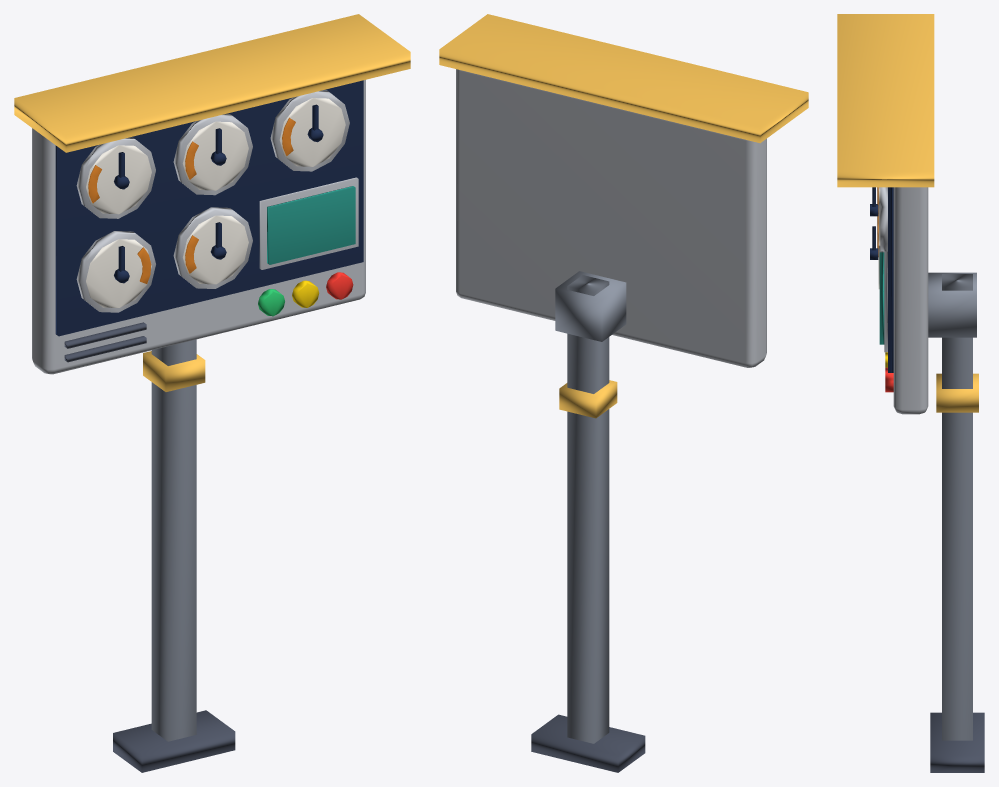
File: Fx_SeatMonitor_CommsPower.glb
3 views of the same model, side by side, from view 1: azimuth 30°, elevation 25°; view 2: azimuth 150°, elevation 25°; view 3: azimuth 270°, elevation 25° (orthographic). The views are drawn at different scales.
Parts seen in each view (by area): view 1: Fx_SeatMonitor_CommsPower.Frame, Fx_SeatMonitor_CommsPower.Hood, Fx_SeatMonitor_CommsPower.Dials, Fx_SeatMonitor_CommsPower.Stand, Fx_SeatMonitor_CommsPower.MonScreen; view 2: Fx_SeatMonitor_CommsPower.Frame, Fx_SeatMonitor_CommsPower.Stand, Fx_SeatMonitor_CommsPower.Hood; view 3: Fx_SeatMonitor_CommsPower.Stand, Fx_SeatMonitor_CommsPower.Hood, Fx_SeatMonitor_CommsPower.Frame, Fx_SeatMonitor_CommsPower.Dials, Fx_SeatMonitor_CommsPower.MonScreen.
Boxes of the visible parts, x1,y1,x2,y2 form: Fx_SeatMonitor_CommsPower.Frame: (32, 80, 365, 374); Fx_SeatMonitor_CommsPower.Hood: (14, 14, 410, 152); Fx_SeatMonitor_CommsPower.Dials: (76, 90, 349, 312); Fx_SeatMonitor_CommsPower.Stand: (113, 339, 235, 772); Fx_SeatMonitor_CommsPower.MonScreen: (267, 186, 355, 264); Fx_SeatMonitor_CommsPower.Frame: (456, 69, 766, 367); Fx_SeatMonitor_CommsPower.Stand: (531, 271, 645, 772); Fx_SeatMonitor_CommsPower.Hood: (439, 14, 808, 143); Fx_SeatMonitor_CommsPower.Stand: (928, 272, 984, 772); Fx_SeatMonitor_CommsPower.Hood: (837, 14, 934, 187); Fx_SeatMonitor_CommsPower.Frame: (884, 187, 928, 414); Fx_SeatMonitor_CommsPower.Dials: (877, 187, 887, 289); Fx_SeatMonitor_CommsPower.MonScreen: (879, 252, 884, 344).
Bounding box in the file's own units: 0.96 × 1.87 × 0.38.
1 material, 1 textured.
